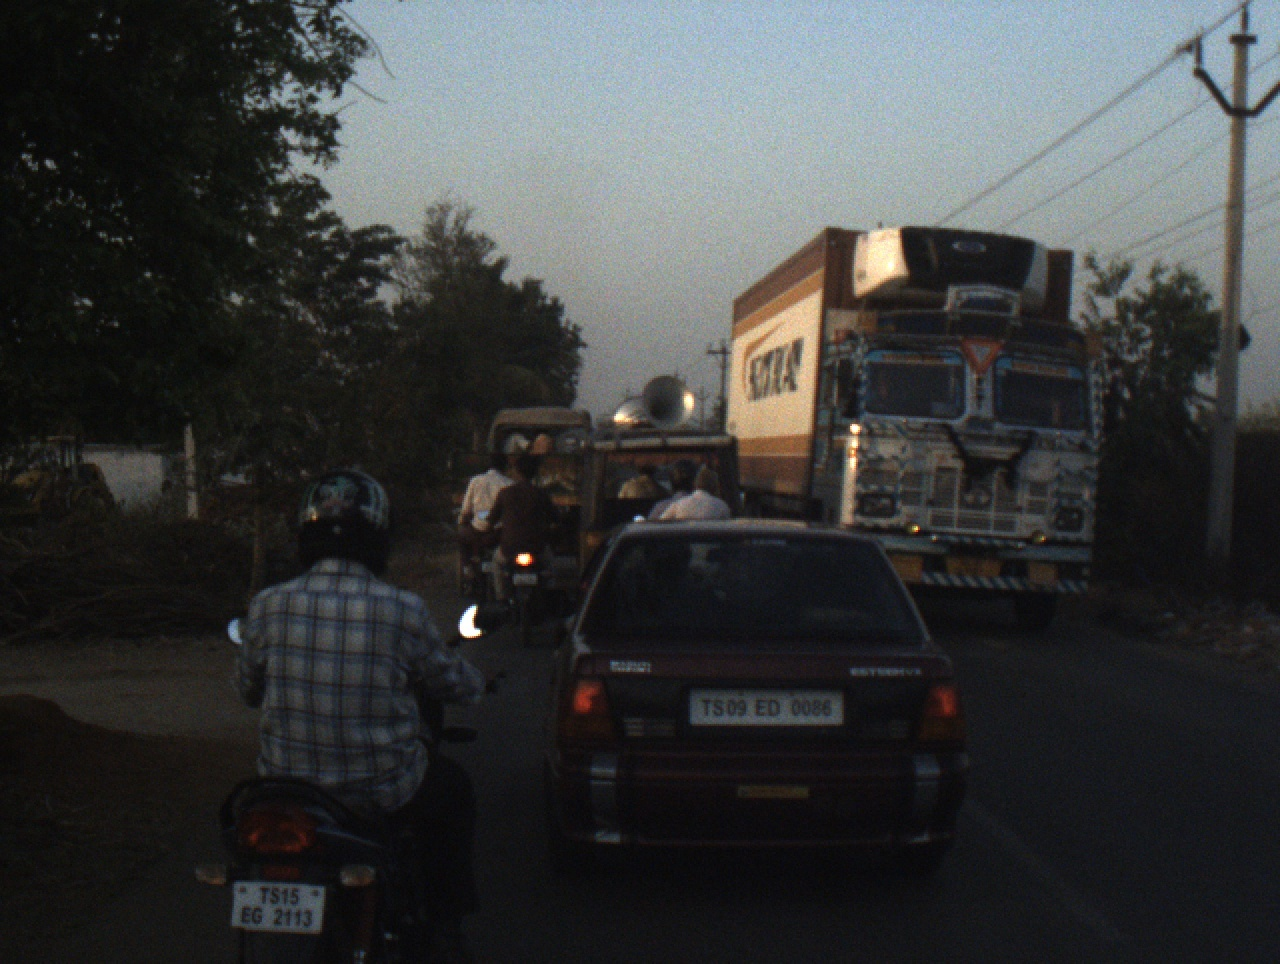car: (541, 514, 975, 891), (575, 375, 743, 606)
motorcycle: (190, 569, 514, 964), (458, 522, 500, 603), (633, 512, 651, 522)
rider: (235, 464, 503, 959), (481, 449, 563, 618), (455, 453, 514, 564), (662, 464, 734, 523), (648, 461, 697, 526)
truck: (726, 223, 1120, 635)
vehicle fallback: (447, 406, 598, 595), (1, 427, 120, 541)
